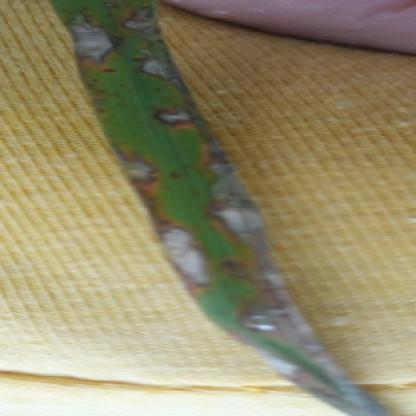Rice blast: (244, 284, 352, 397), (150, 216, 218, 307), (126, 5, 192, 98), (104, 137, 162, 199), (66, 9, 118, 76), (143, 101, 204, 137)
